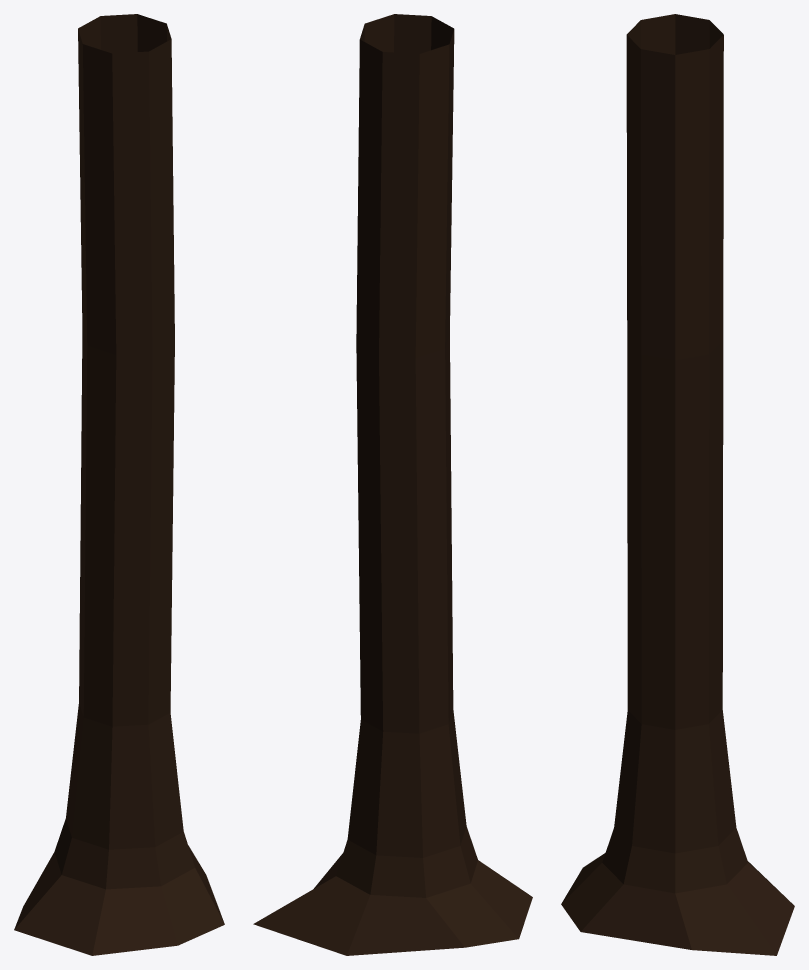
Rendered from s_tree_04.FBX.
3 renders of one model, left to right at view 1: azimuth 30°, elevation 25°; view 2: azimuth 150°, elevation 25°; view 3: azimuth 270°, elevation 25°, orthographic.
Visible parts, largest first — view 1: s_tree_04; view 2: s_tree_04; view 3: s_tree_04.
Boxes of the visible parts, box(x1,y1,x2,y2) form: s_tree_04: box(14, 14, 224, 955); s_tree_04: box(253, 14, 532, 955); s_tree_04: box(561, 14, 794, 955).
Bounding box in the file's own units: 1 × 3.92 × 0.9533.
